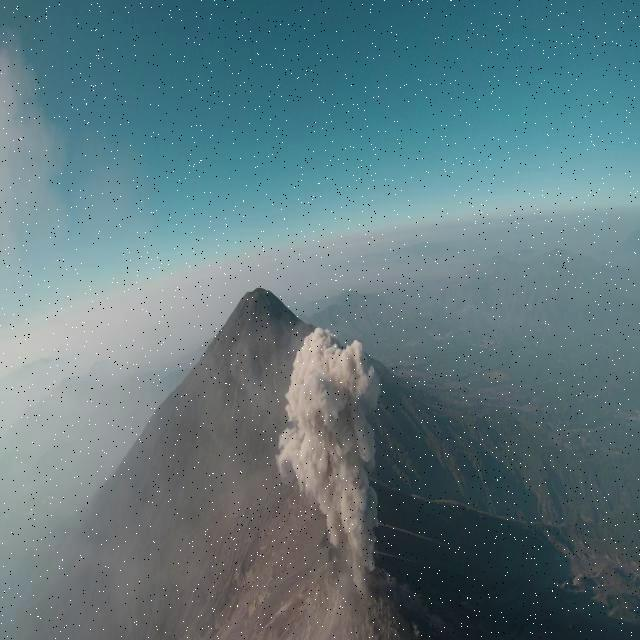Plume: (277, 325, 385, 568)
Summit: (236, 516, 458, 640)
